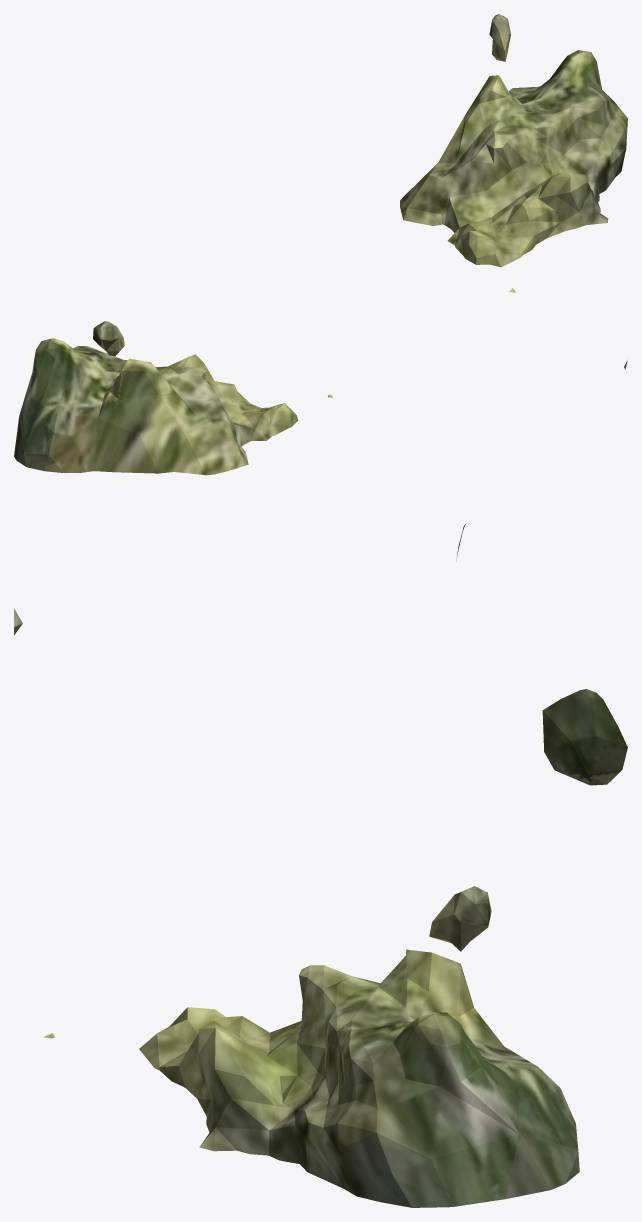
3 renders of one model, top to bottom at view 1: azimuth 30°, elevation 25°; view 2: azimuth 150°, elevation 25°; view 3: azimuth 270°, elevation 25°, orthographic. The views are drawn at different scales.
Size of the model in its own units: 5.65 by 1.52 by 3.48.
Materials: 1 (1 with a texture image).
